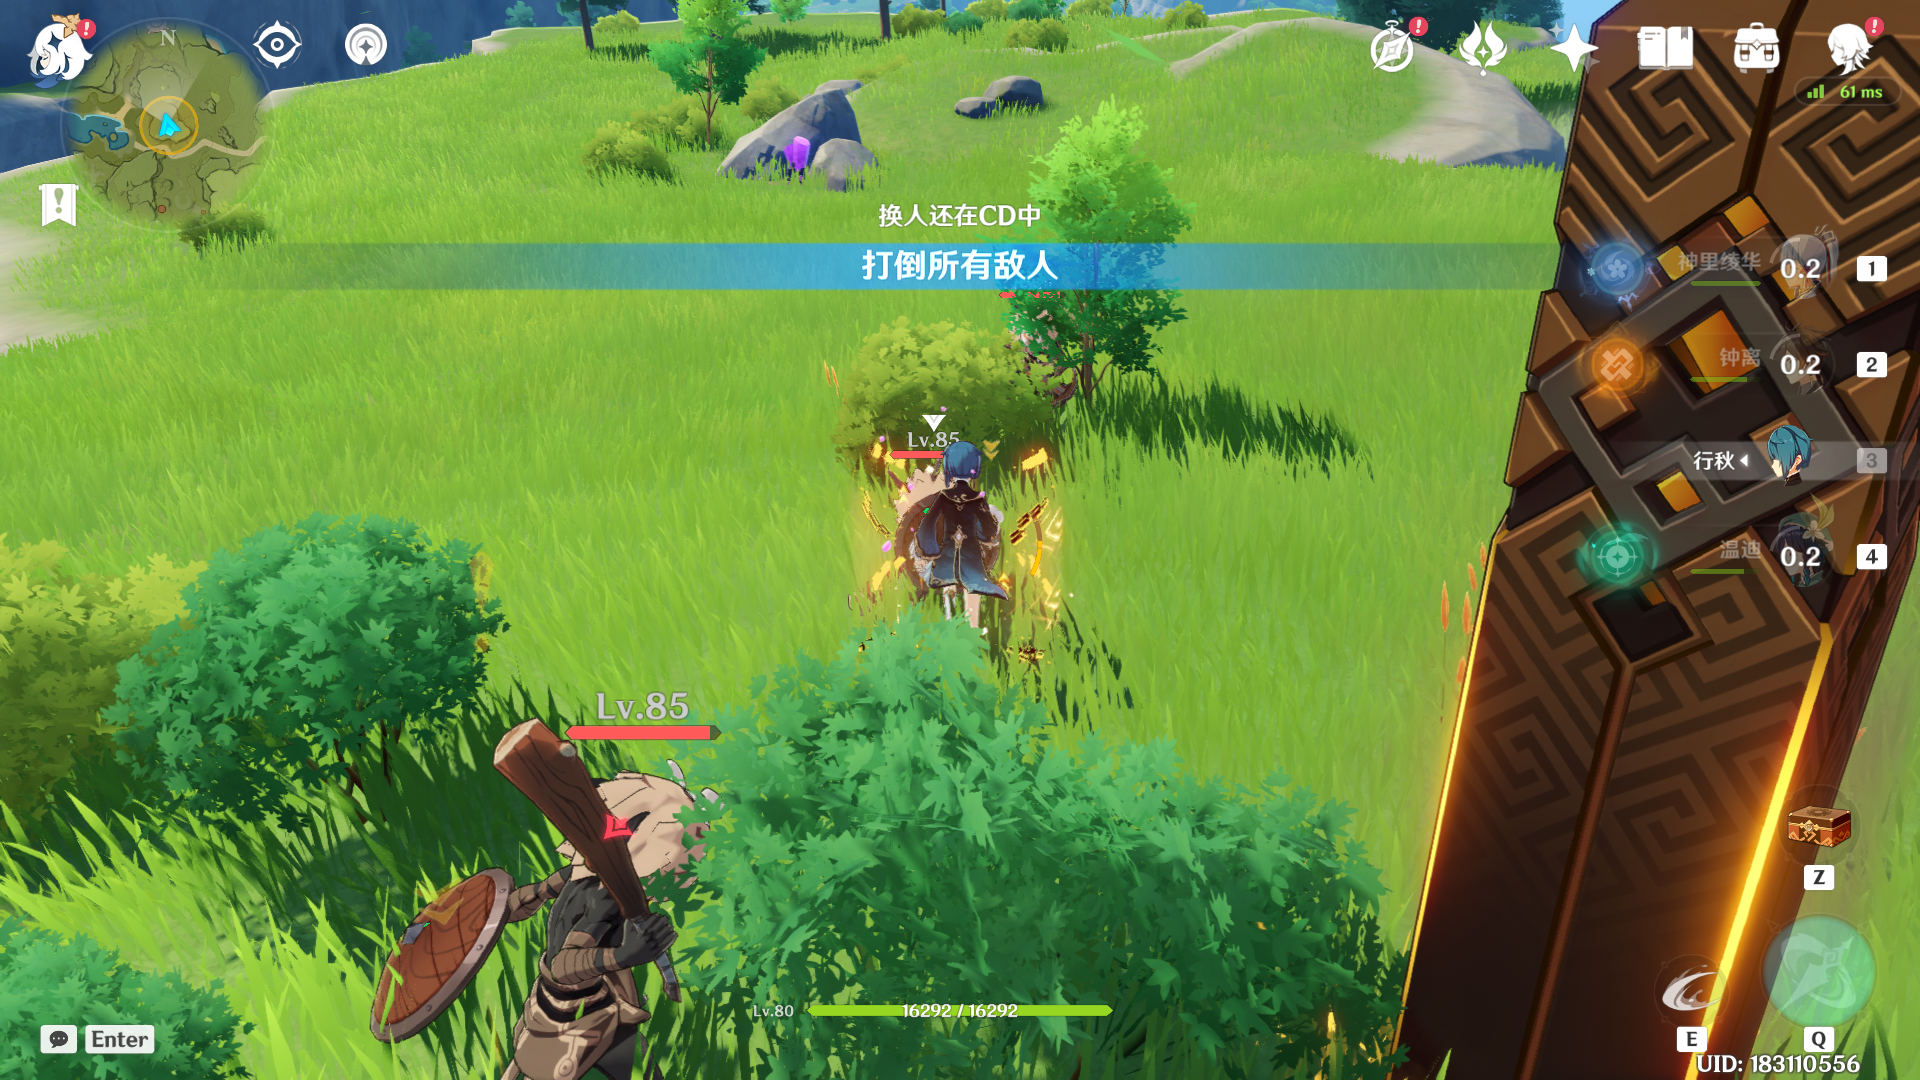character: (882, 423, 1054, 665)
hili: (369, 702, 761, 1080)
